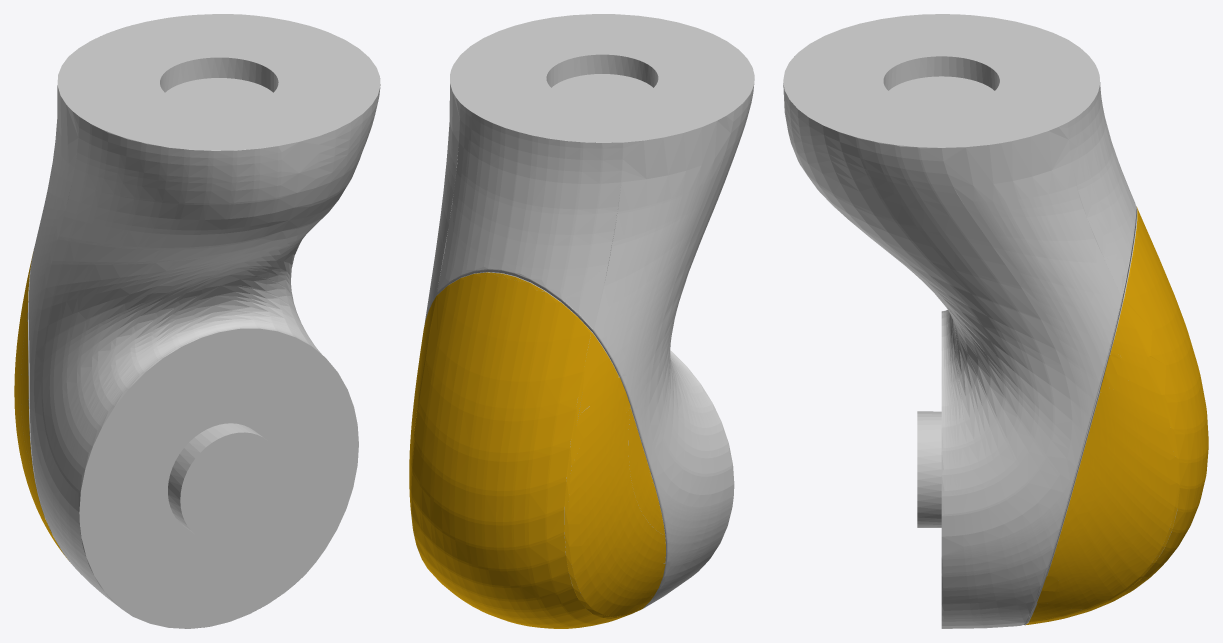
The picture shows the model from 3 angles, left to right: view 1: azimuth 30°, elevation 25°; view 2: azimuth 150°, elevation 25°; view 3: azimuth 270°, elevation 25°; orthographic projection. The views are drawn at different scales.
Parts seen in each view (by area): view 1: node0; view 2: node0; view 3: node0.
Boxes of the visible parts, box(x1,y1,x2,y2) form: node0: box(14, 14, 380, 628); node0: box(409, 14, 754, 628); node0: box(783, 14, 1208, 628).
Bounding box in the file's own units: 0.136 × 0.1826 × 0.252.
